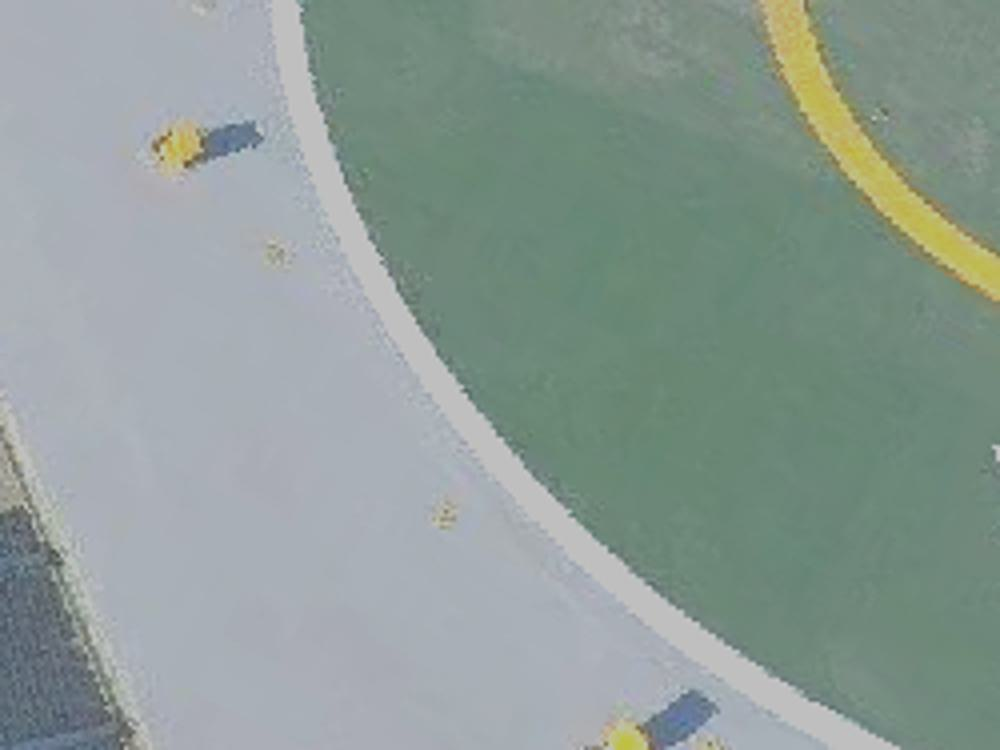Apron: (736, 1, 1000, 353)
